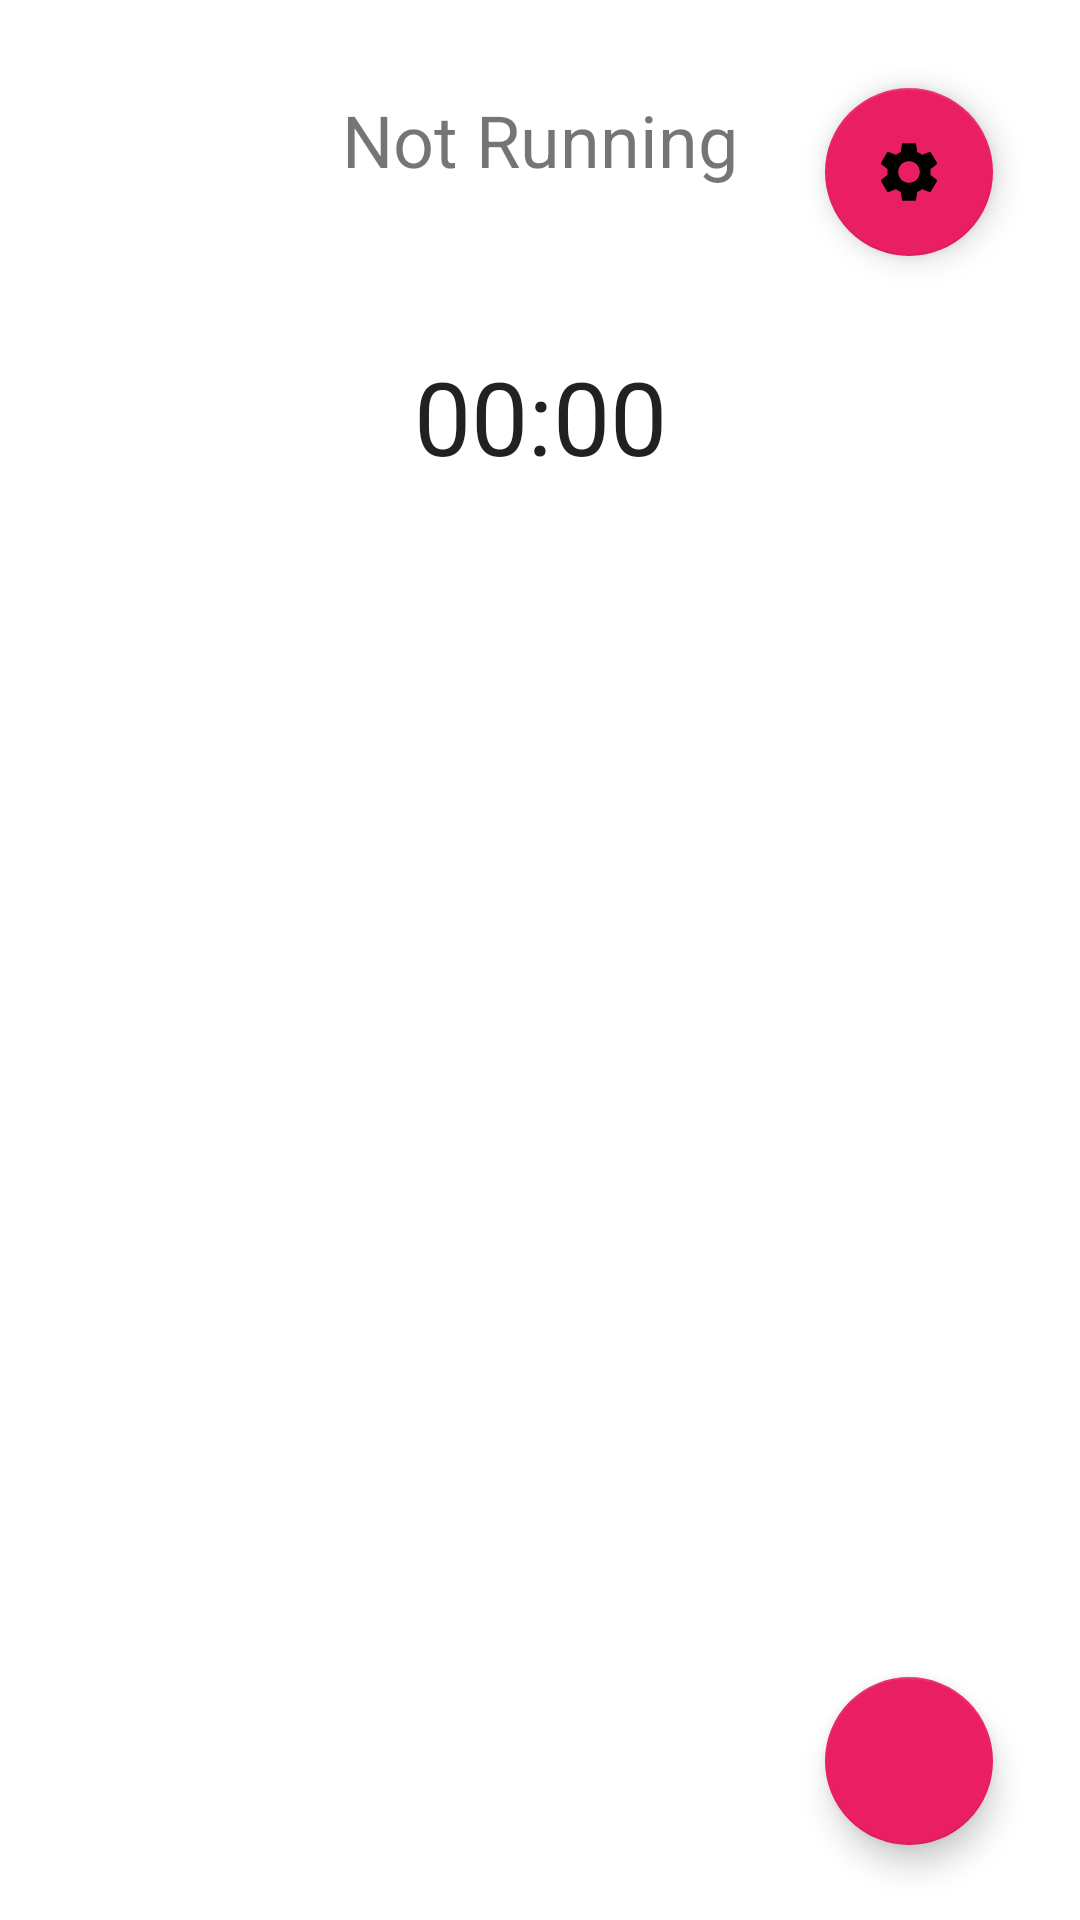

Icons on this 1080px x 1920px Android screen, each with the point to tap as [x,y]:
configure app: [909,172]
